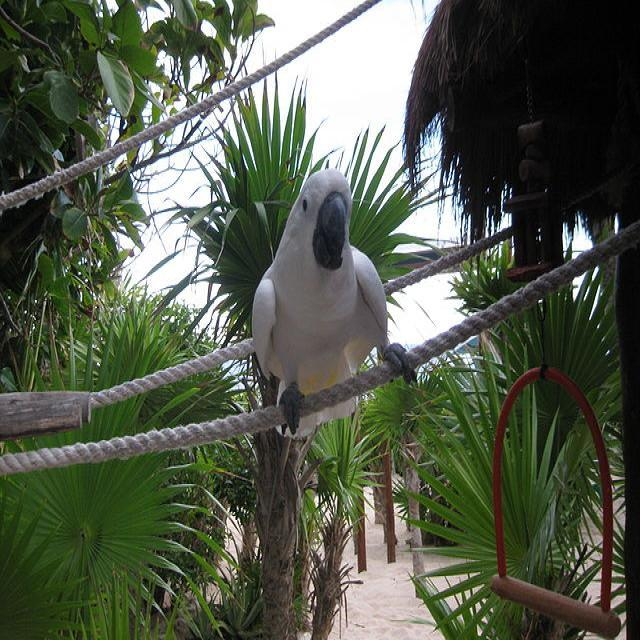Kakatua Putih: (225, 137, 430, 446)
